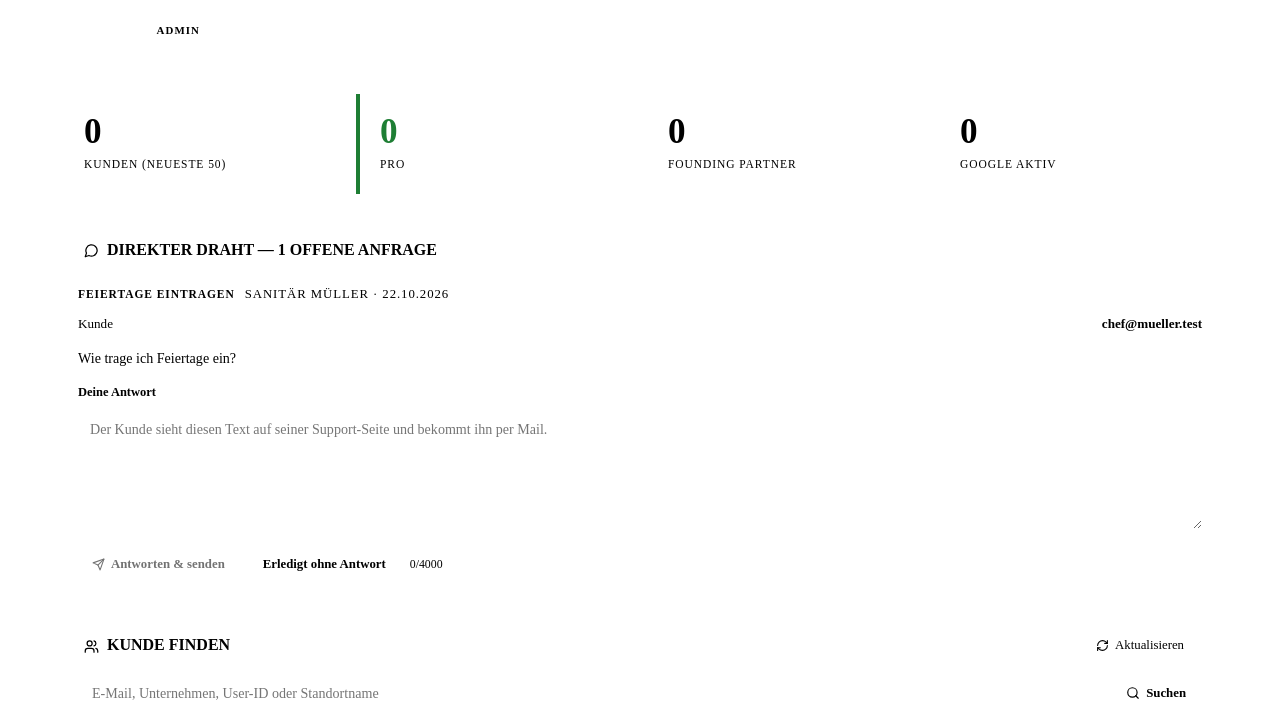
Test case: Admin — Antwort auf Supportanfrage › schickt genau requestId und den getrimmten Text über admin-ops und nimmt die Anfrage aus "offen"
Expected: the element with test id "admin-support" is shown, [64,226,1216,596]
Replace the text in the text box labelled "Deine Antwort" with "  Unter Öffnungszeiten → Sonderzeiten.  " at (640, 469), box [78,409,1202,529]
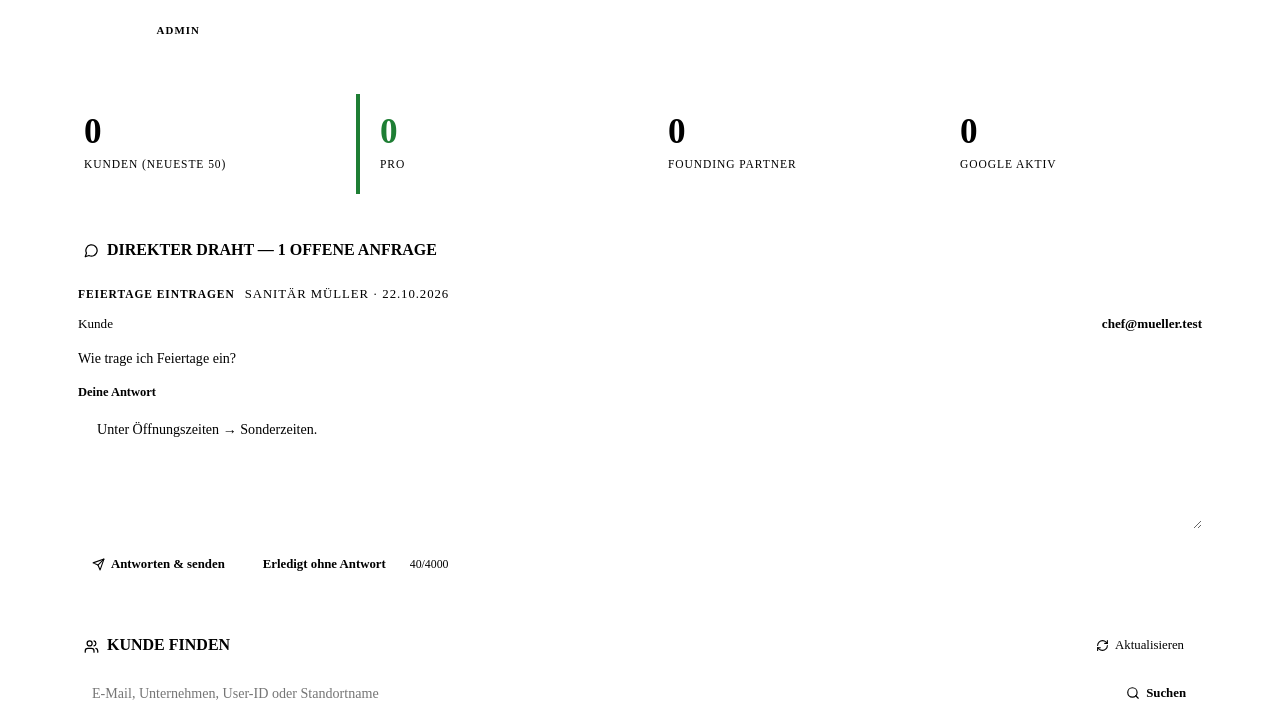
Click the button "Antworten & senden" at (158, 564), box [78,547,239,582]
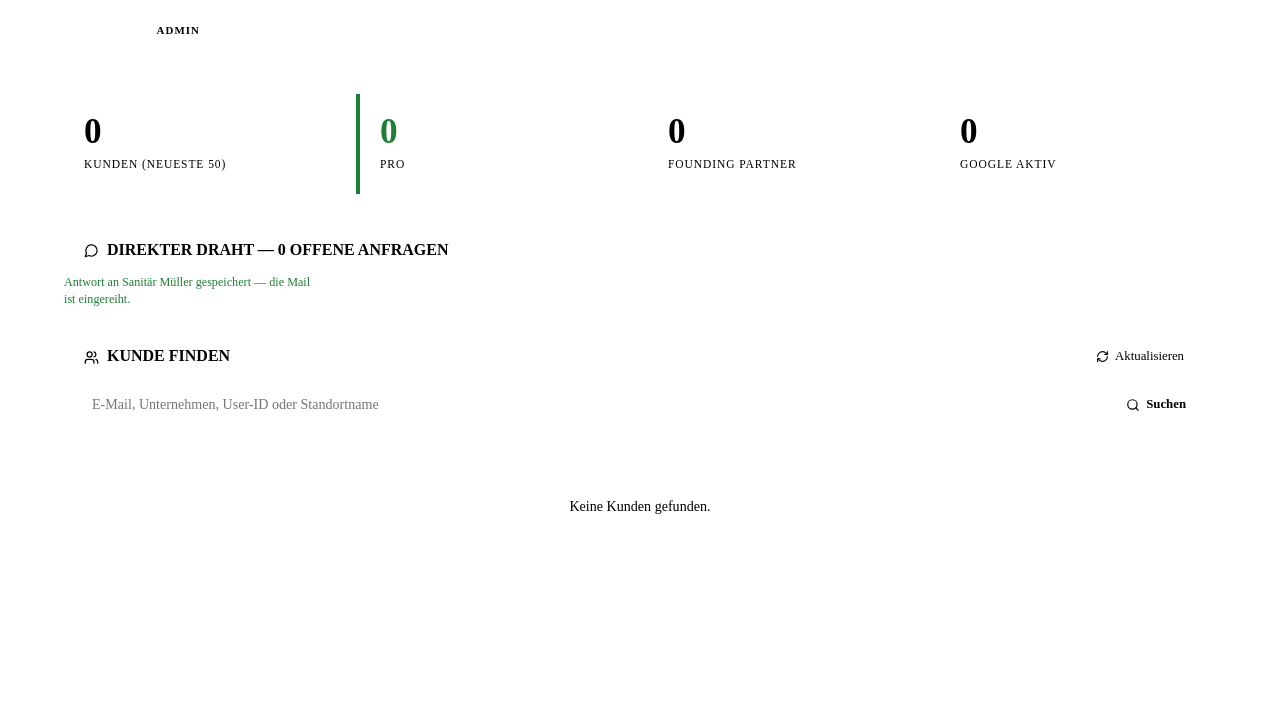
Expected: the text "Wie trage ich Feiertage ein?" is gone
Expected: the message shows "Mail ist eingereiht", [64,276,310,306]
